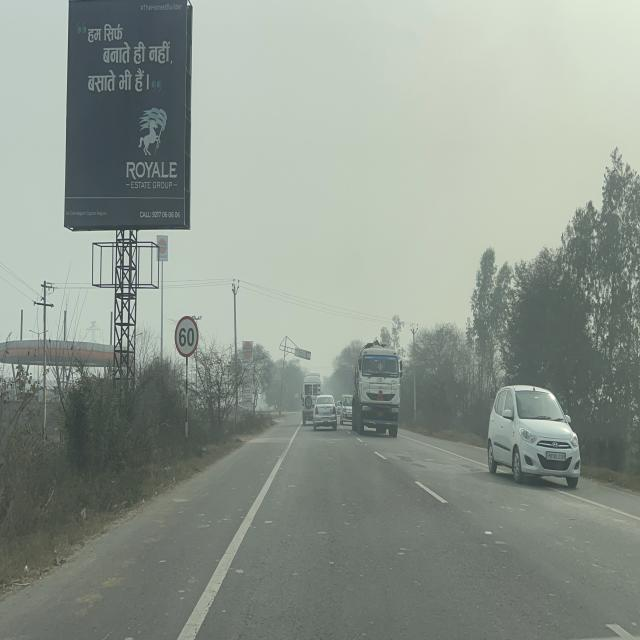SPEED_LIMIT_60: (174, 315, 199, 358)
